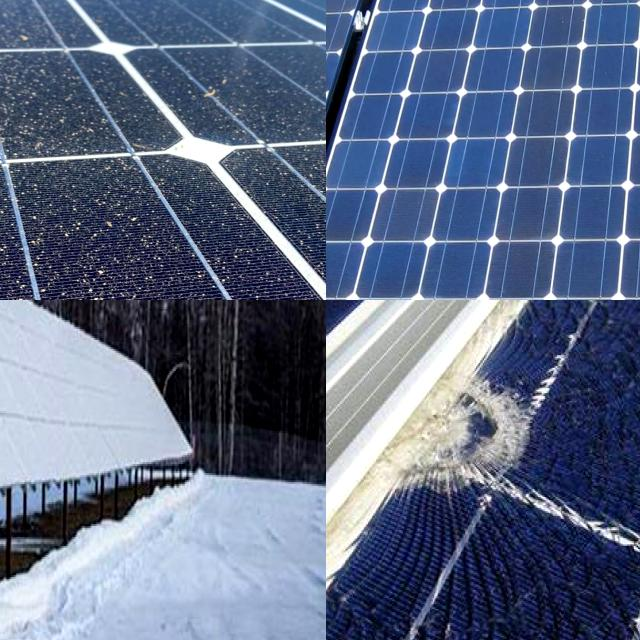crack: (487, 120, 585, 223), (417, 223, 508, 300), (549, 228, 640, 300), (498, 84, 592, 152), (432, 130, 526, 196), (476, 237, 574, 300), (429, 182, 511, 256), (563, 86, 640, 151), (464, 3, 540, 66), (408, 4, 490, 59), (528, 4, 602, 56), (326, 238, 370, 300), (366, 14, 429, 55), (616, 234, 640, 300)
dust: (79, 196, 241, 300), (0, 66, 95, 148)
hotspot: (401, 323, 564, 532)
panel: (21, 330, 110, 454), (108, 358, 192, 462), (0, 300, 61, 411), (0, 300, 67, 386), (0, 386, 35, 512), (0, 321, 51, 372), (0, 427, 26, 491), (0, 300, 53, 330), (0, 465, 24, 515)
